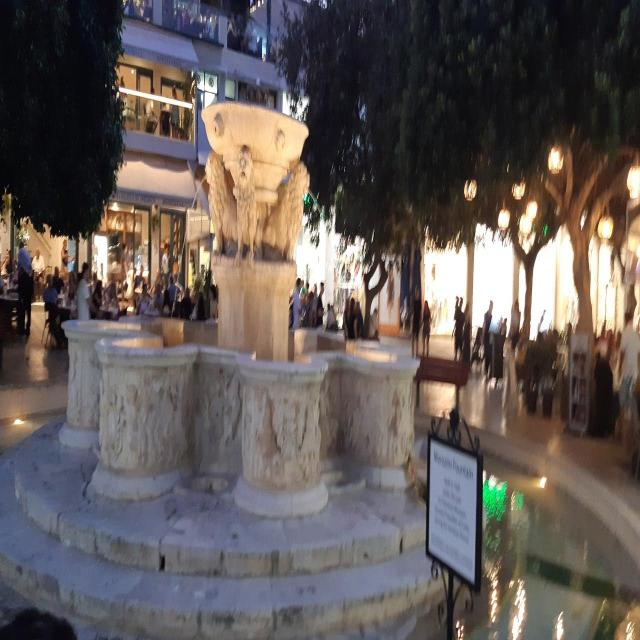Liontaria: (63, 93, 425, 518)
